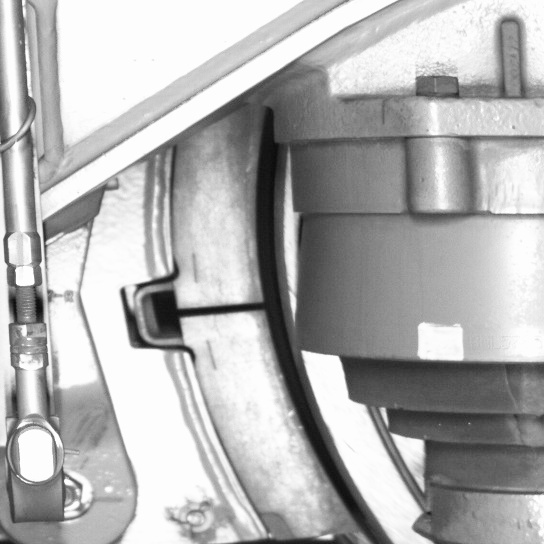KnifeSwitch: (178, 134, 393, 541)
